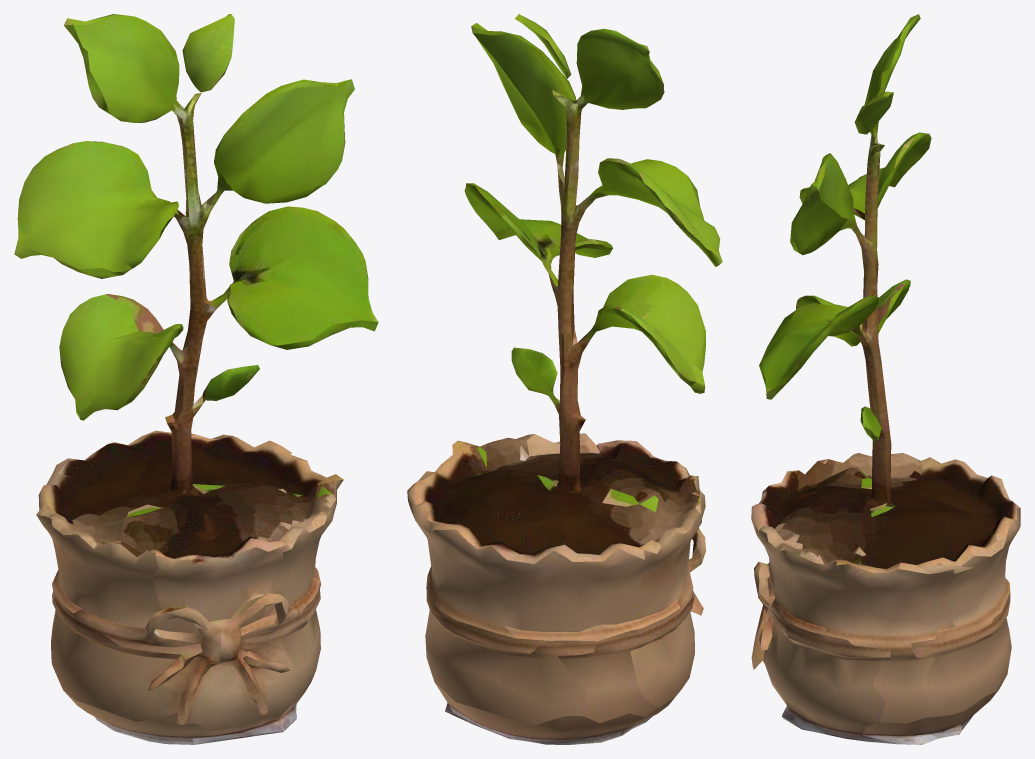
File: sapling_apple.glb
3 renders of one model, left to right at view 1: azimuth 30°, elevation 25°; view 2: azimuth 150°, elevation 25°; view 3: azimuth 270°, elevation 25°, orthographic. The views are drawn at different scales.
Visible parts, largest first — view 1: sapling_apple; view 2: sapling_apple; view 3: sapling_apple.
Part boxes in pixels (x1,y1,x2,y2): sapling_apple: (14, 14, 378, 744); sapling_apple: (407, 14, 722, 744); sapling_apple: (751, 14, 1020, 744).
Size of the model in its own units: 0.4532 by 1 by 0.3802.
Materials: 1 (1 with a texture image).
